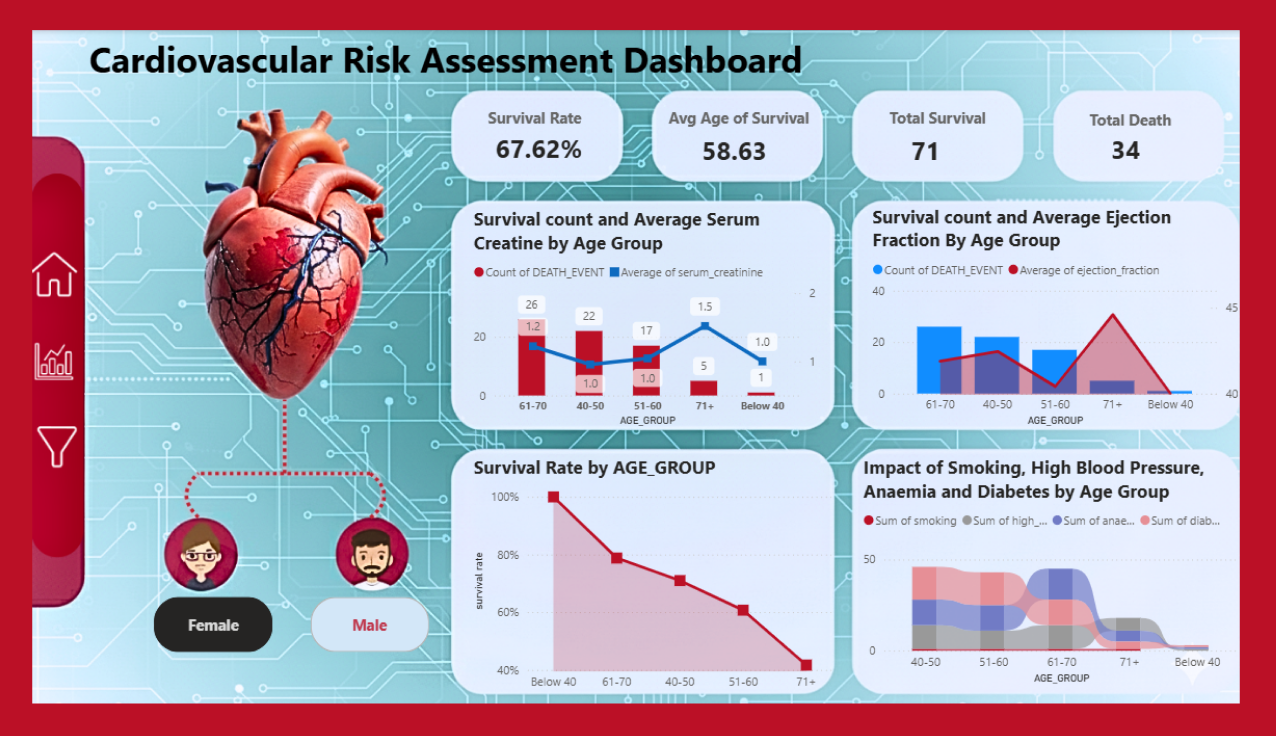

The dashboard page shown, as its layout file describes it:
{"tool":"powerbi","page":{"name":"Page 1","canvas":[1280,720],"ordinal":0},"visuals":[{"type":"cardVisual","fields":{"Data":["Disease_records.survival rate"]},"box":[462.4,53.5,172.9,133.1],"z":0},{"type":"cardVisual","fields":{"Data":["Disease_records.Avg Age Survival"]},"box":[680.6,53.5,155.1,138.6],"z":1000},{"type":"cardVisual","fields":{"Data":["Disease_records.total survival"]},"box":[901.5,28.8,164.7,185.2],"z":2000},{"type":"cardVisual","fields":{"Data":["Disease_records.total death"]},"box":[1112.9,71.4,153.7,98.8],"z":3000},{"type":"textbox","box":[477.5,76.8,138.6,50.8],"z":4000},{"type":"lineClusteredColumnComboChart","title":"Survival count and Average Serum Creatine by Age Group","fields":{"Category":["Disease_records.AGE_GROUP"],"Y":["CountNonNull(Disease_records.DEATH_EVENT)"],"Y2":["Avg(Disease_records.serum_creatinine)"]},"box":[462.4,186.6,371.9,237.4],"z":5000},{"type":"lineClusteredColumnComboChart","title":"Survival count and Average Ejection Fraction By Age Group","fields":{"Category":["Disease_records.AGE_GROUP"],"Y":["CountNonNull(Disease_records.DEATH_EVENT)"],"Y2":["Avg(Disease_records.ejection_fraction)"]},"box":[883.7,183.9,396.6,240.1],"z":6000},{"type":"lineChart","title":"Survival Rate by AGE_GROUP","fields":{"Category":["Disease_records.AGE_GROUP"],"Y":["Disease_records.survival rate"]},"box":[462.4,448.7,388.3,258],"z":7000},{"type":"ribbonChart","title":"Impact of Smoking, High Blood Pressure, Anaemia and Diabetes by Age Group","fields":{"Category":["Disease_records.AGE_GROUP"],"Y":["Sum(Disease_records.smoking)","Sum(Disease_records.high_blood_pressure)","Sum(Disease_records.anaemia)","Sum(Disease_records.diabetes)"]},"box":[874,449.3,406.3,246.9],"z":8000},{"type":"advancedSlicerVisual","fields":{"Values":["Disease_records.gender"]},"box":[124.9,594.2,301.9,68.6],"z":9000},{"type":"textbox","box":[616.1,78.2,9.6,59],"z":10000},{"type":"textbox","box":[901.5,76.8,181.1,31.6],"z":11000},{"type":"textbox","box":[668.3,76.8,182.5,50.8],"z":12000},{"type":"textbox","box":[1112.9,78.2,127.6,59],"z":13000},{"type":"textbox","box":[56.3,0,1045.6,186.6],"z":14000}]}

Visuals, with their boxes in screenshot pixels (x1, y1, x2, y2), scaled from the page's 1280x720 canvas onto the 1276x736 screenshot:
cardVisual - Disease_records.survival rate: <box>461,55,633,191</box>
cardVisual - Disease_records.Avg Age Survival: <box>678,55,833,196</box>
cardVisual - Disease_records.total survival: <box>899,29,1063,219</box>
cardVisual - Disease_records.total death: <box>1109,73,1263,174</box>
textbox: <box>476,79,614,130</box>
"Survival count and Average Serum Creatine by Age Group" lineClusteredColumnComboChart: <box>461,191,832,433</box>
"Survival count and Average Ejection Fraction By Age Group" lineClusteredColumnComboChart: <box>881,188,1275,433</box>
"Survival Rate by AGE_GROUP" lineChart: <box>461,459,848,722</box>
"Impact of Smoking, High Blood Pressure, Anaemia and Diabetes by Age Group" ribbonChart: <box>871,459,1275,712</box>
advancedSlicerVisual - Disease_records.gender: <box>125,607,425,678</box>
textbox: <box>614,80,624,140</box>
textbox: <box>899,79,1079,111</box>
textbox: <box>666,79,848,130</box>
textbox: <box>1109,80,1237,140</box>
textbox: <box>56,0,1098,191</box>
